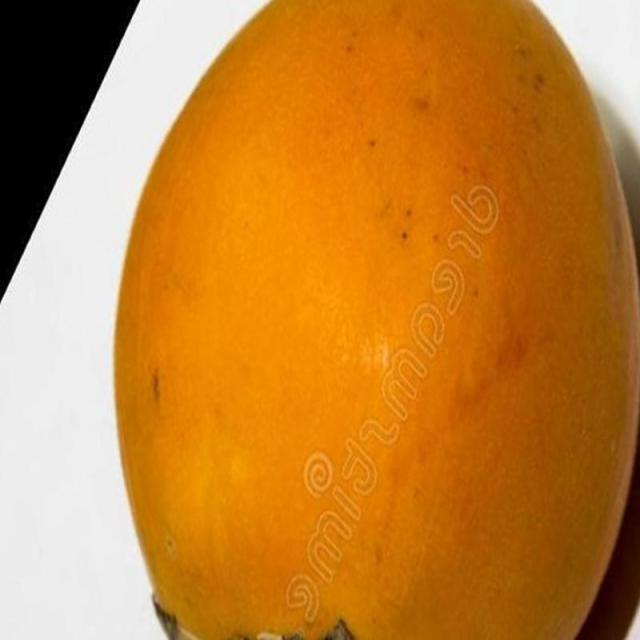good: (115, 0, 639, 639)
